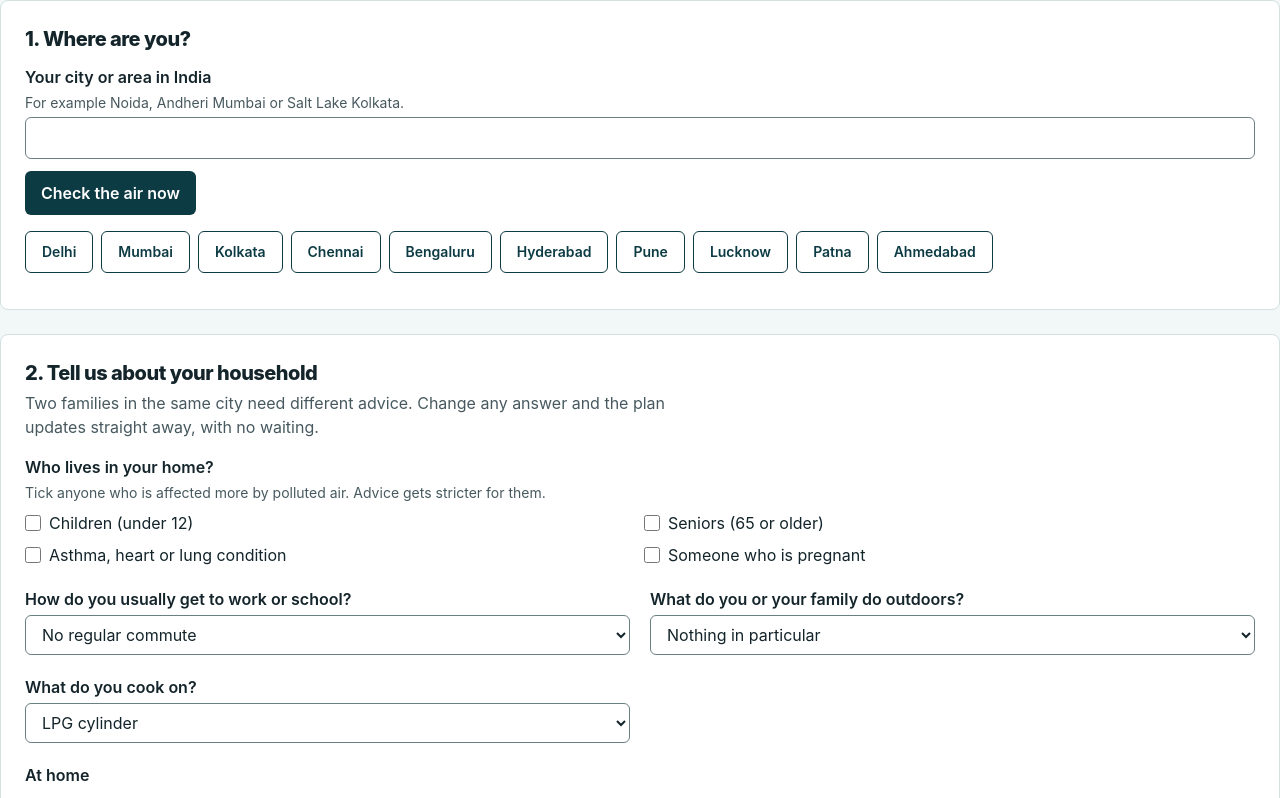
Test: re-planning when the household changes › only asks for a distance when there is a commute
The image size is (1280, 798).
Expected: the field labelled "how far is it" is not shown
Select "Car" in the dropdown labelled "How do you usually get to work or school?". click: (328, 635)
box: [25, 615, 630, 655]
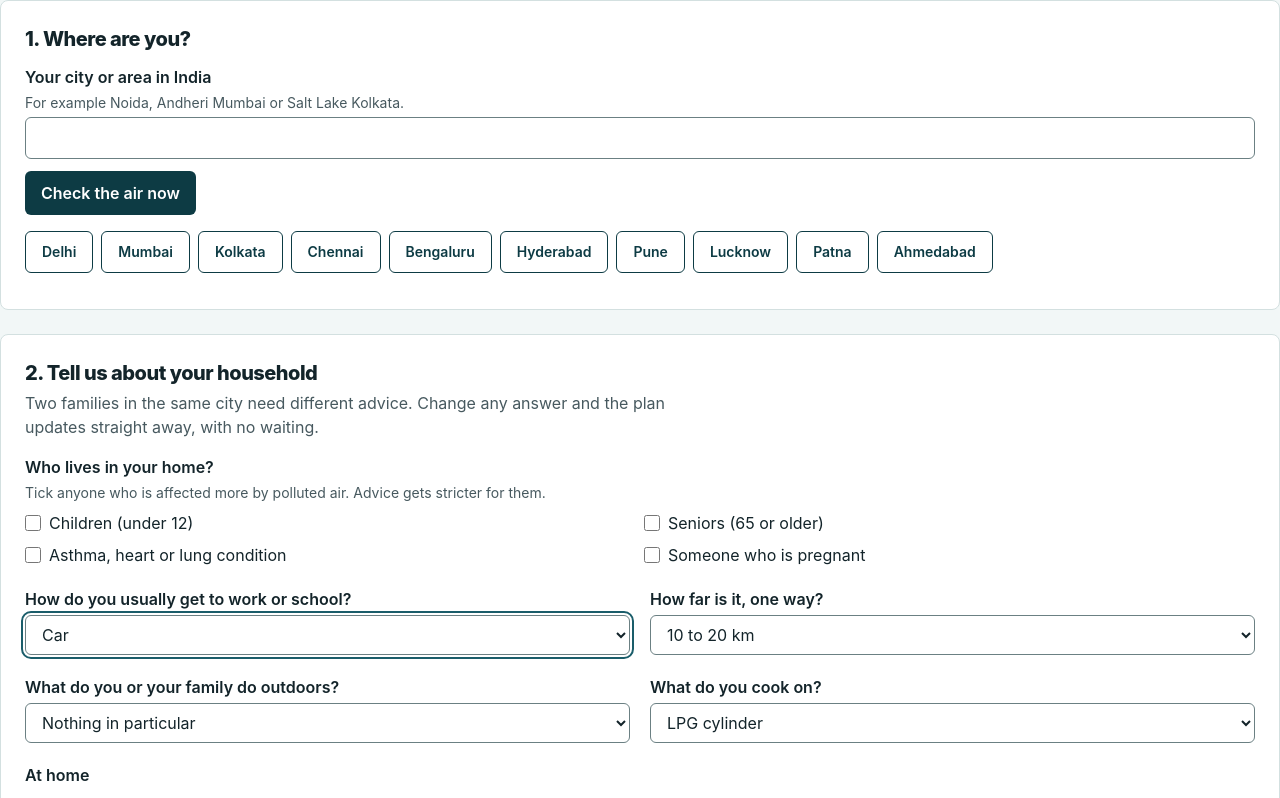
Expected: the dropdown labelled "How far is it, one way?" is shown, [650, 615, 1255, 655]
